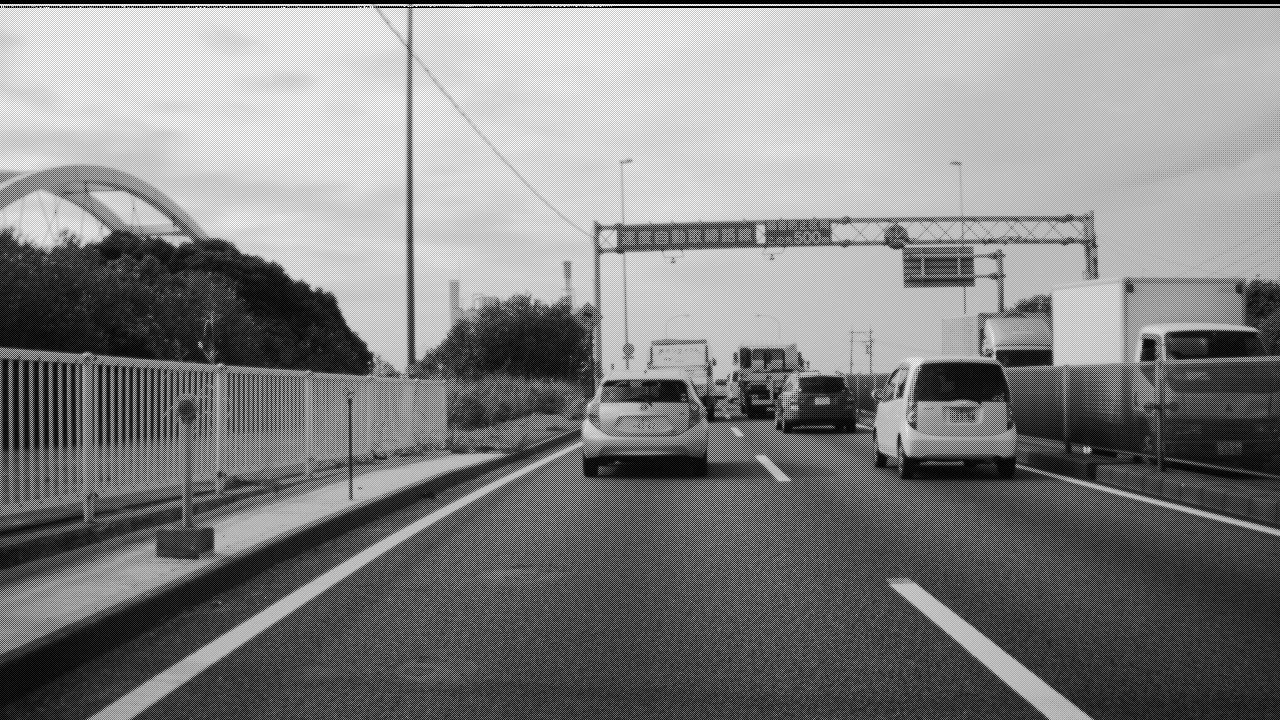pole: (404, 3, 417, 376), (620, 165, 630, 368), (958, 166, 967, 314), (595, 221, 603, 379), (997, 249, 1004, 311)
